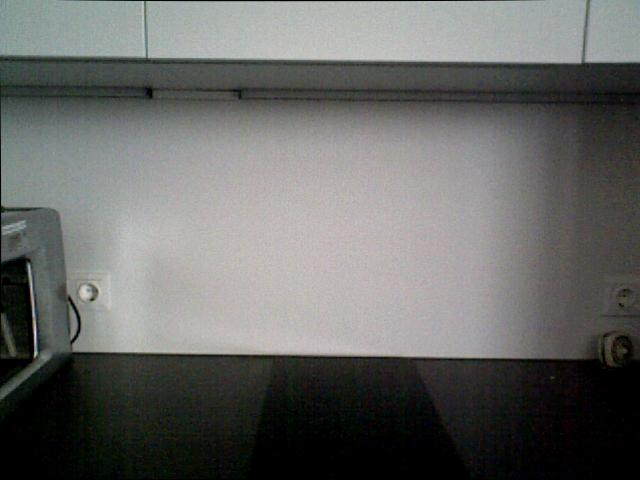giraffe: (593, 329, 640, 372)
